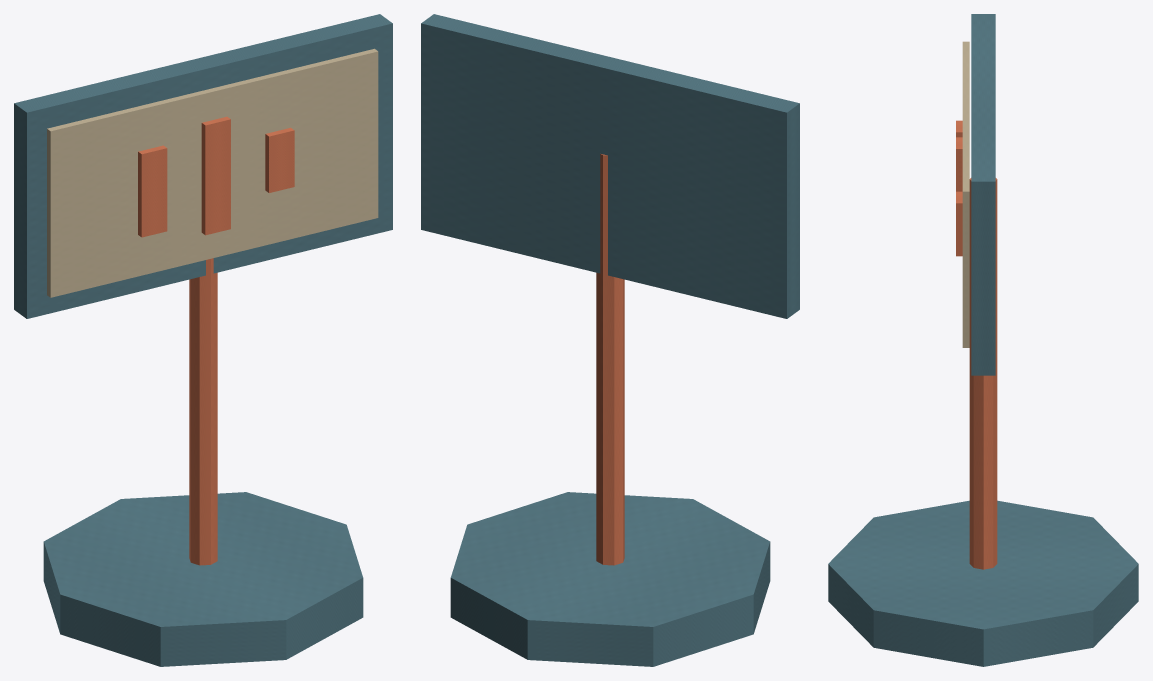
Rendered from atlas100-s043-a11.glb.
3 renders of one model, left to right at view 1: azimuth 30°, elevation 25°; view 2: azimuth 150°, elevation 25°; view 3: azimuth 270°, elevation 25°, orthographic. The views are drawn at different scales.
Parts seen in each view (by area): view 1: atlas100-s043-a11:part-003, atlas100-s043-a11:part-000, atlas100-s043-a11:part-002, atlas100-s043-a11:part-001, atlas100-s043-a11:part-005, atlas100-s043-a11:part-004, atlas100-s043-a11:part-006; view 2: atlas100-s043-a11:part-002, atlas100-s043-a11:part-000, atlas100-s043-a11:part-001; view 3: atlas100-s043-a11:part-000, atlas100-s043-a11:part-002, atlas100-s043-a11:part-001, atlas100-s043-a11:part-003, atlas100-s043-a11:part-006.
Part boxes in pixels (x1,y1,x2,y2): atlas100-s043-a11:part-003: (47, 48, 378, 297); atlas100-s043-a11:part-000: (43, 492, 363, 666); atlas100-s043-a11:part-002: (14, 14, 392, 318); atlas100-s043-a11:part-001: (189, 258, 217, 565); atlas100-s043-a11:part-005: (201, 116, 230, 235); atlas100-s043-a11:part-004: (138, 145, 167, 237); atlas100-s043-a11:part-006: (265, 127, 294, 192); atlas100-s043-a11:part-002: (421, 14, 799, 318); atlas100-s043-a11:part-000: (450, 492, 770, 666); atlas100-s043-a11:part-001: (596, 154, 624, 565); atlas100-s043-a11:part-000: (828, 500, 1138, 666); atlas100-s043-a11:part-002: (971, 14, 995, 375); atlas100-s043-a11:part-001: (969, 178, 997, 569); atlas100-s043-a11:part-003: (962, 41, 969, 347); atlas100-s043-a11:part-006: (956, 191, 962, 256).
Size of the model in its own units: 1.15 by 1.61 by 0.9.
Materials: 3 (3 with a texture image).
